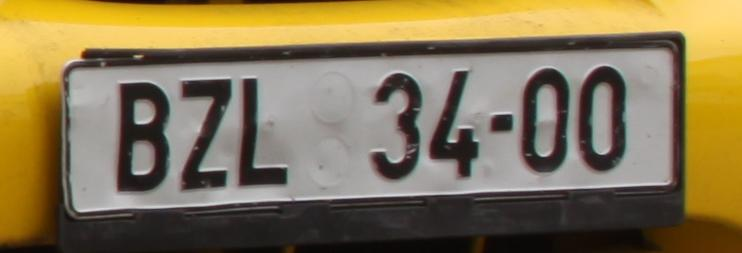-: (489, 114, 514, 131)
0: (579, 64, 625, 171), (121, 85, 169, 187), (521, 69, 568, 172)
3: (374, 74, 420, 180)
4: (430, 71, 478, 177)
L: (241, 78, 287, 185)
Z: (183, 80, 227, 187)
